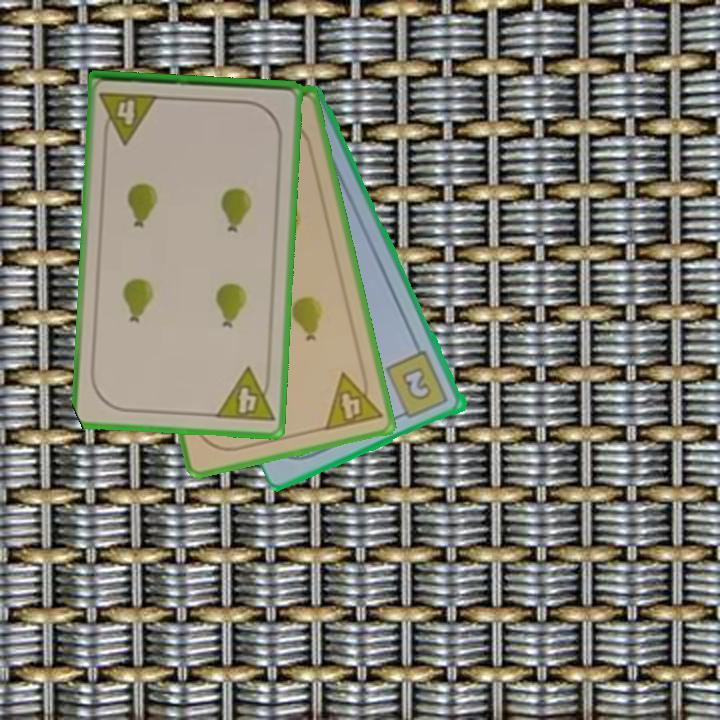2b: (382, 348, 452, 422)
4p: (321, 365, 385, 434), (212, 364, 277, 426), (96, 88, 162, 147)
